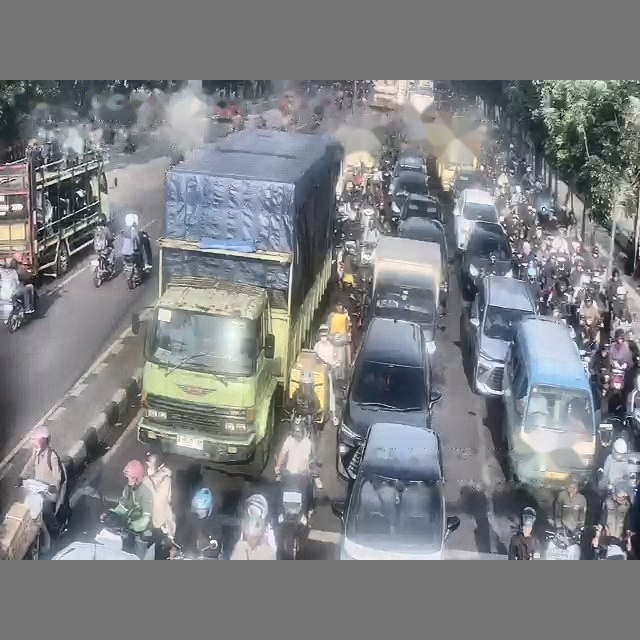Mobil: (332, 422, 459, 559), (336, 317, 440, 478), (461, 276, 537, 395), (398, 217, 449, 307), (460, 222, 512, 300), (453, 189, 499, 250), (389, 172, 430, 217), (397, 195, 441, 221), (451, 168, 487, 197), (394, 152, 426, 176)
Motor: (277, 471, 313, 559), (5, 289, 38, 332), (543, 526, 582, 559), (91, 251, 116, 287), (123, 256, 144, 289)
Truk: (137, 129, 343, 476), (0, 150, 110, 276)
